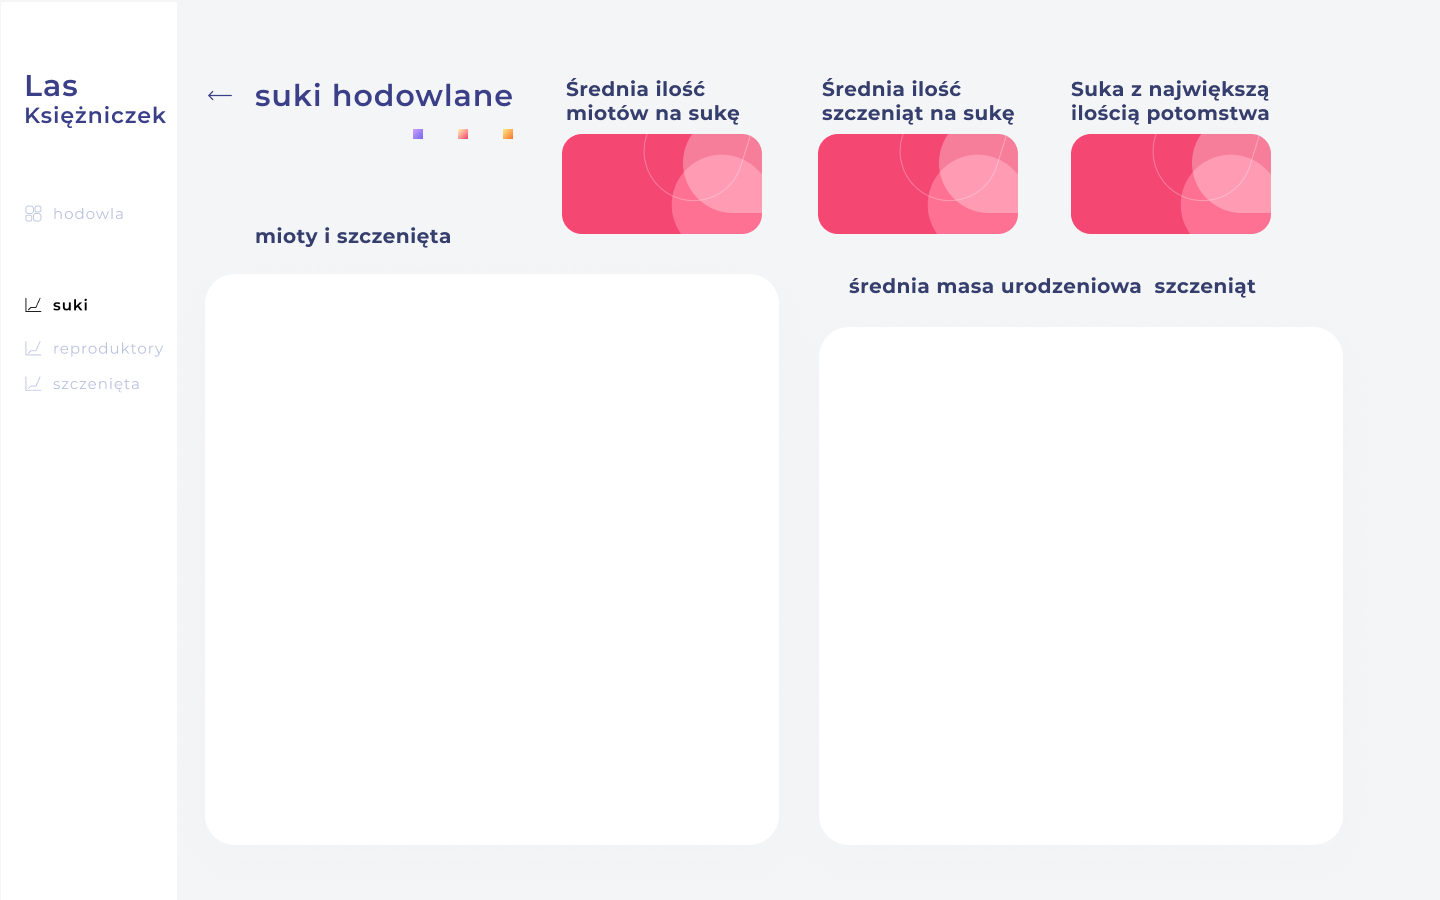

The dashboard page shown, as its layout file describes it:
{"tool":"tableau","page":{"name":"FINAL_LK_P3","canvas":[1440,900],"ordinal":1},"visuals":[{"type":"image","param":"/Users/martamucha-balcerek/Desktop/analityk danych/hovawart-lk-analysis/work-on-","box":[0,0,1440,900]},{"type":"worksheet","title":"kpi avg litters per female dog (white)","mark":"Automatic","box":[570,135,107,100]},{"type":"worksheet","title":"kpi female with most puppies (white)","mark":"Automatic","box":[1072,135,196,90]},{"type":"worksheet","title":"kpi avg puppies per female dog (white)","mark":"Automatic","box":[822,136,148,96]},{"type":"worksheet","title":"puppies for female dogs","mark":"Automatic","rows":["name_female_dog (copy)_6826030063579137","breeding_nickname_female_dog (copy)_6826030063747074"],"cols":["num_of_puppies_litter (copy)_0353480342503424"],"box":[221,288,532,528]},{"type":"worksheet","title":"average birth weight per female dog","mark":"Circle","box":[830,338,503,496]},{"type":"legend","title":"puppies for female dogs","param":"[federated.157p3a41l7sm4x1g3uyqn0fsmavm].[__tableau_internal_object_id__].[cnt:m","box":[14,519,140,76]},{"type":"filter","title":"kpi avg puppies per female dog (white)","param":"[federated.157p3a41l7sm4x1g3uyqn0fsmavm].[none:imie:nk]","box":[14,598,160,195]}]}

Visuals, with their boxes on the page's 1440x900 design canvas (x1, y1, x2, y2). These are canvas units, not pixel positions in the 1440x900 screenshot, which may show the page scaled, cropped or inside an application window:
image: 0, 0, 1440, 900
"kpi avg litters per female dog (white)" worksheet: 570, 135, 677, 235
"kpi female with most puppies (white)" worksheet: 1072, 135, 1268, 225
"kpi avg puppies per female dog (white)" worksheet: 822, 136, 970, 232
"puppies for female dogs" worksheet: 221, 288, 753, 816
"average birth weight per female dog" worksheet (Circle marks): 830, 338, 1333, 834
"puppies for female dogs" legend: 14, 519, 154, 595
"kpi avg puppies per female dog (white)" filter: 14, 598, 174, 793
